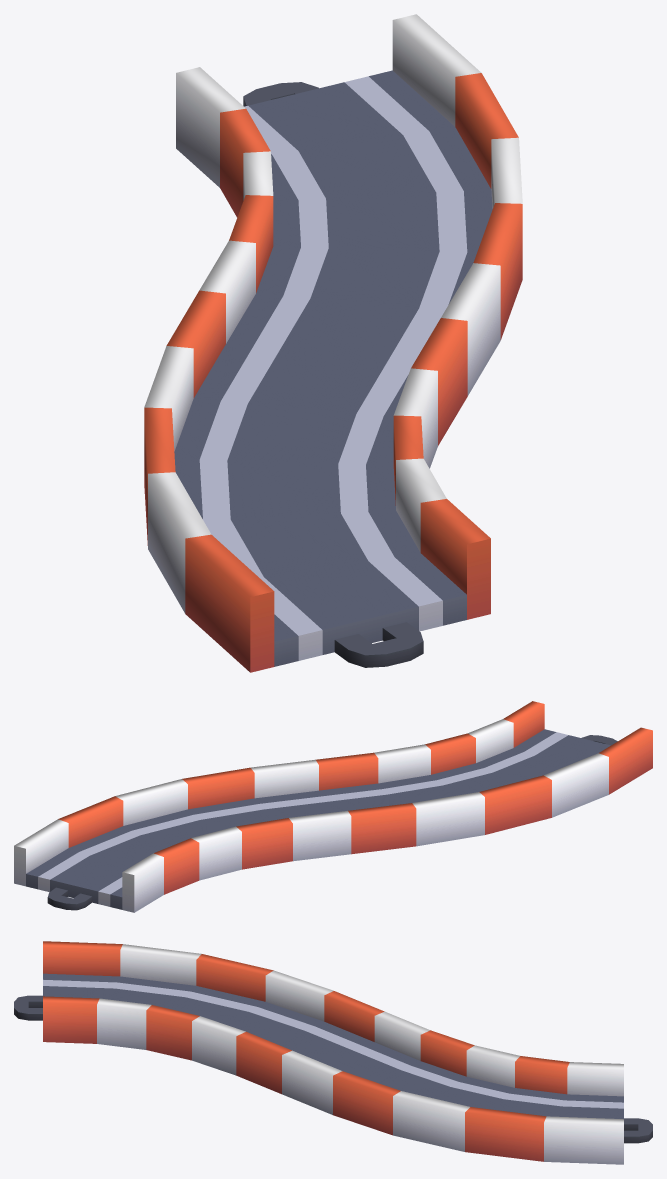
File: track-road-narrow-curve.glb
3 renders of one model, top to bottom at view 1: azimuth 30°, elevation 25°; view 2: azimuth 150°, elevation 25°; view 3: azimuth 270°, elevation 25°, orthographic. The views are drawn at different scales.
Parts seen in each view (by area): view 1: track-road-narrow-curve; view 2: track-road-narrow-curve; view 3: track-road-narrow-curve.
Boxes of the visible parts, x1,y1,x2,y2 form: track-road-narrow-curve: (144, 14, 522, 672); track-road-narrow-curve: (14, 701, 652, 912); track-road-narrow-curve: (14, 941, 652, 1164).
Bounding box in the file's own units: 3 × 0.3 × 4.4.
1 material, 1 textured.
